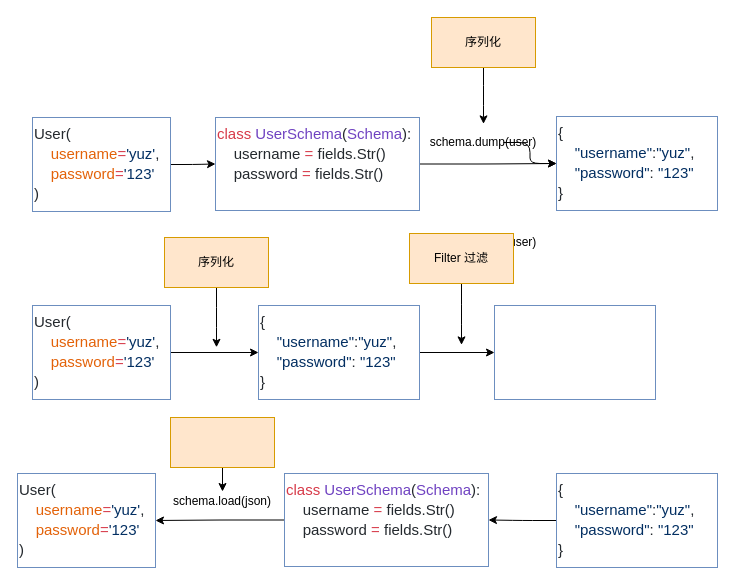
The diagram is 735 pixels wide and 585 high, and some of its shapes have lost their labels. The box of each missing label's shape, as (x1, y1, x2, y2) in pixels:
{ "username" : "yuz" }: (494, 304, 656, 400)
反序列化: (170, 416, 274, 468)
